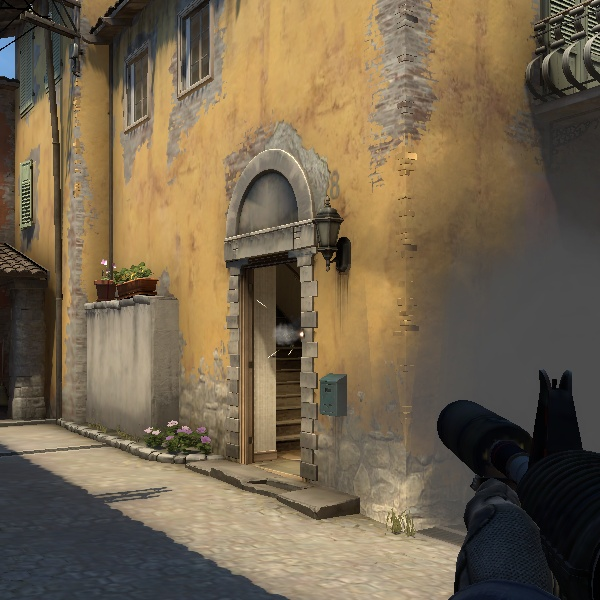ct_body: (514, 0, 600, 100)
